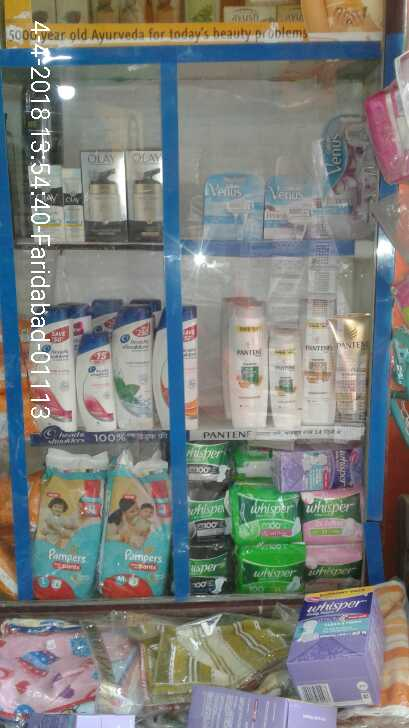venus: (319, 112, 374, 239), (202, 174, 263, 239), (265, 175, 320, 238)
